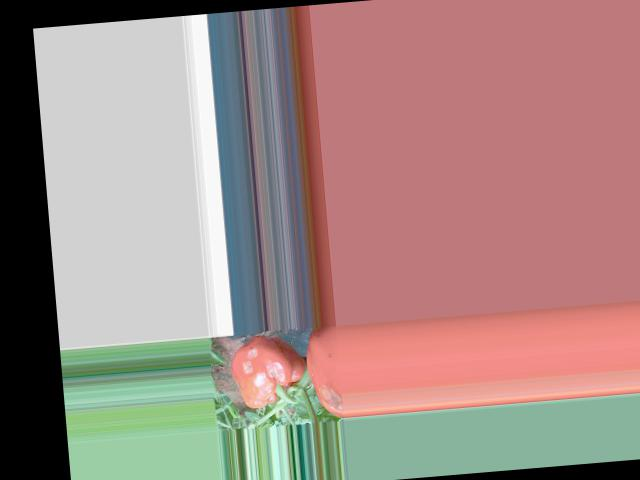bell_pepper: (232, 328, 307, 416)
